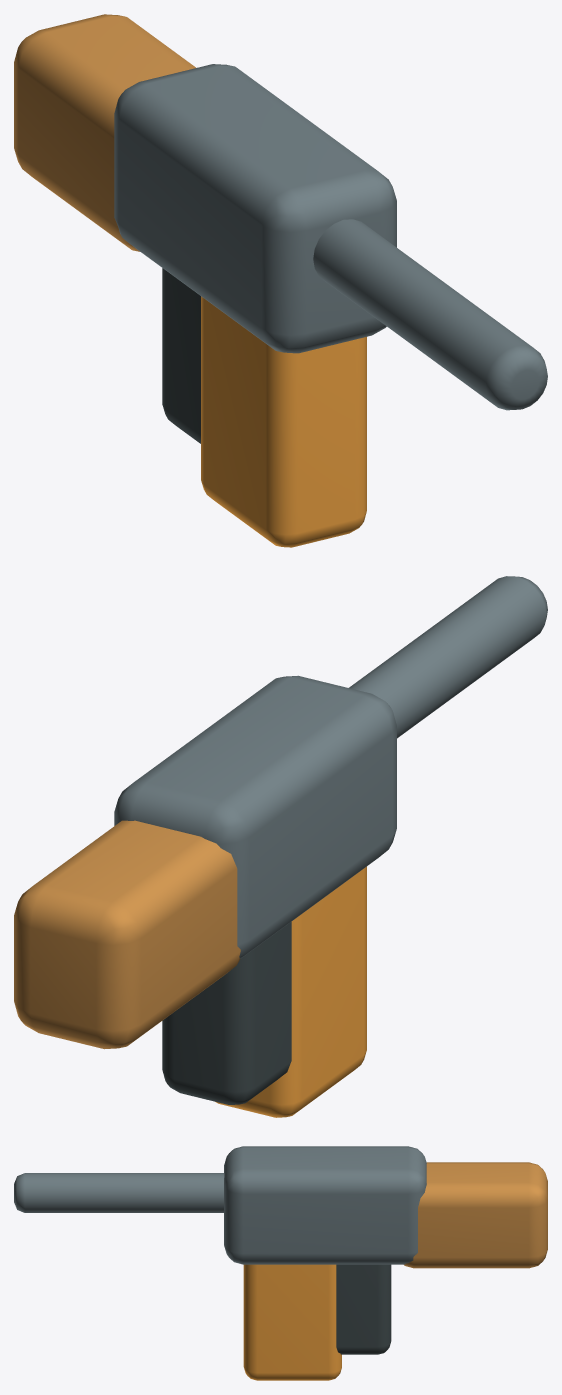
The model's file is weapon_rifle.glb.
3 views of the same model, one above another, from view 1: azimuth 30°, elevation 25°; view 2: azimuth 150°, elevation 25°; view 3: azimuth 270°, elevation 25° (orthographic). The views are drawn at different scales.
Parts seen in each view (by area): view 1: Receiver.008, Magazine.004, Stock.006, Weapon barrel.008, Grip.008; view 2: Receiver.008, Stock.006, Magazine.004, Grip.008, Weapon barrel.008; view 3: Receiver.008, Stock.006, Magazine.004, Weapon barrel.008, Grip.008.
Boxes of the visible parts, bbox=[...] form: Receiver.008: bbox=[114, 64, 396, 353]; Magazine.004: bbox=[201, 296, 366, 547]; Stock.006: bbox=[14, 14, 195, 251]; Weapon barrel.008: bbox=[313, 219, 547, 410]; Grip.008: bbox=[162, 268, 200, 443]; Receiver.008: bbox=[114, 675, 396, 958]; Stock.006: bbox=[14, 820, 240, 1049]; Magazine.004: bbox=[215, 866, 366, 1117]; Grip.008: bbox=[162, 922, 291, 1104]; Weapon barrel.008: bbox=[349, 576, 547, 738]; Receiver.008: bbox=[224, 1146, 426, 1264]; Stock.006: bbox=[404, 1162, 547, 1268]; Magazine.004: bbox=[243, 1264, 341, 1380]; Weapon barrel.008: bbox=[14, 1173, 224, 1212]; Grip.008: bbox=[336, 1264, 391, 1354].
Bounding box in the file's own units: 0.16 × 0.43 × 0.977.
